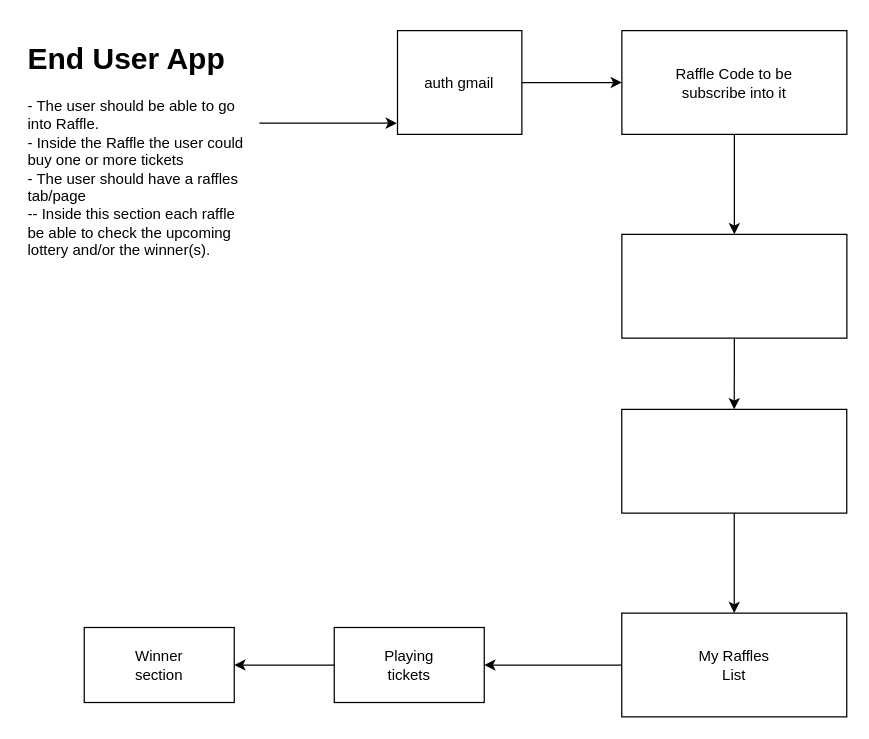
The diagram is 869 pixels wide and 739 high, and some of its shapes have lost their labels. Each missing label, with the box of its shape:
Payment transaction: (620, 408, 847, 513)
Raffle Codes: (621, 233, 847, 338)
